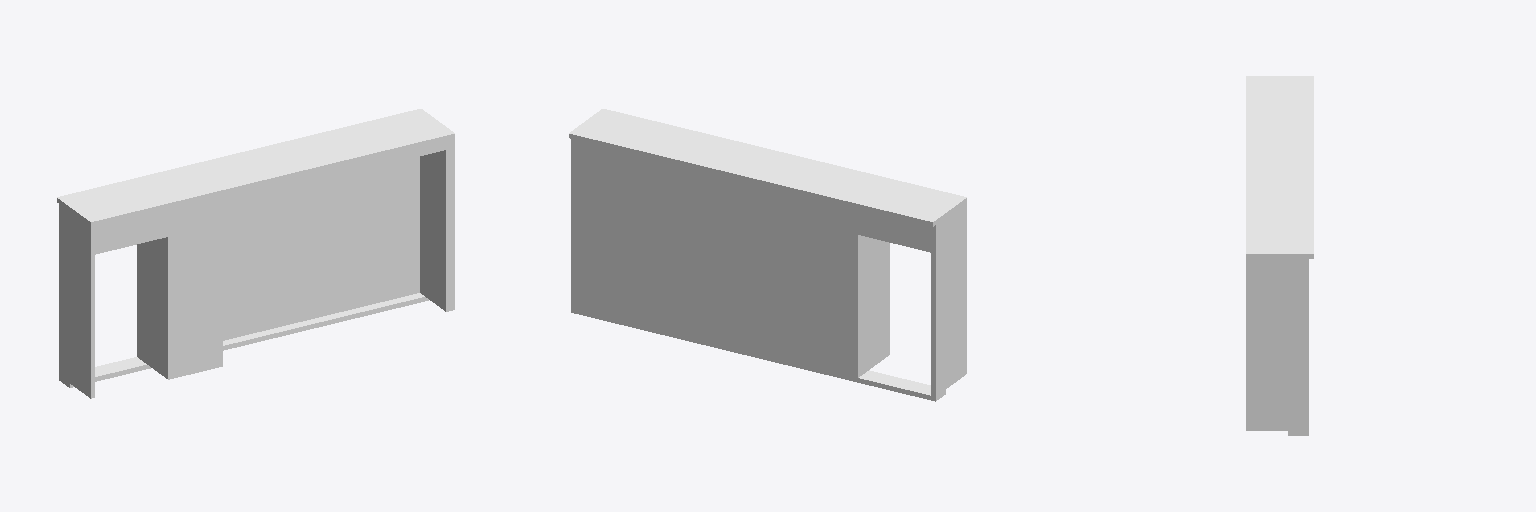
Rendered from apt-wall-main-entry.obj.
3 views of the same model, side by side, from view 1: azimuth 30°, elevation 25°; view 2: azimuth 150°, elevation 25°; view 3: azimuth 270°, elevation 25° (orthographic).
Visible parts, largest first — view 1: apt:wall-main-entry; view 2: apt:wall-main-entry; view 3: apt:wall-main-entry.
Part boxes in pixels (left/top/right/bottom): apt:wall-main-entry: left=57, top=109, right=454, bottom=398; apt:wall-main-entry: left=569, top=109, right=966, bottom=401; apt:wall-main-entry: left=1246, top=76, right=1313, bottom=435.
Size of the model in its own units: 80 by 38 by 13.